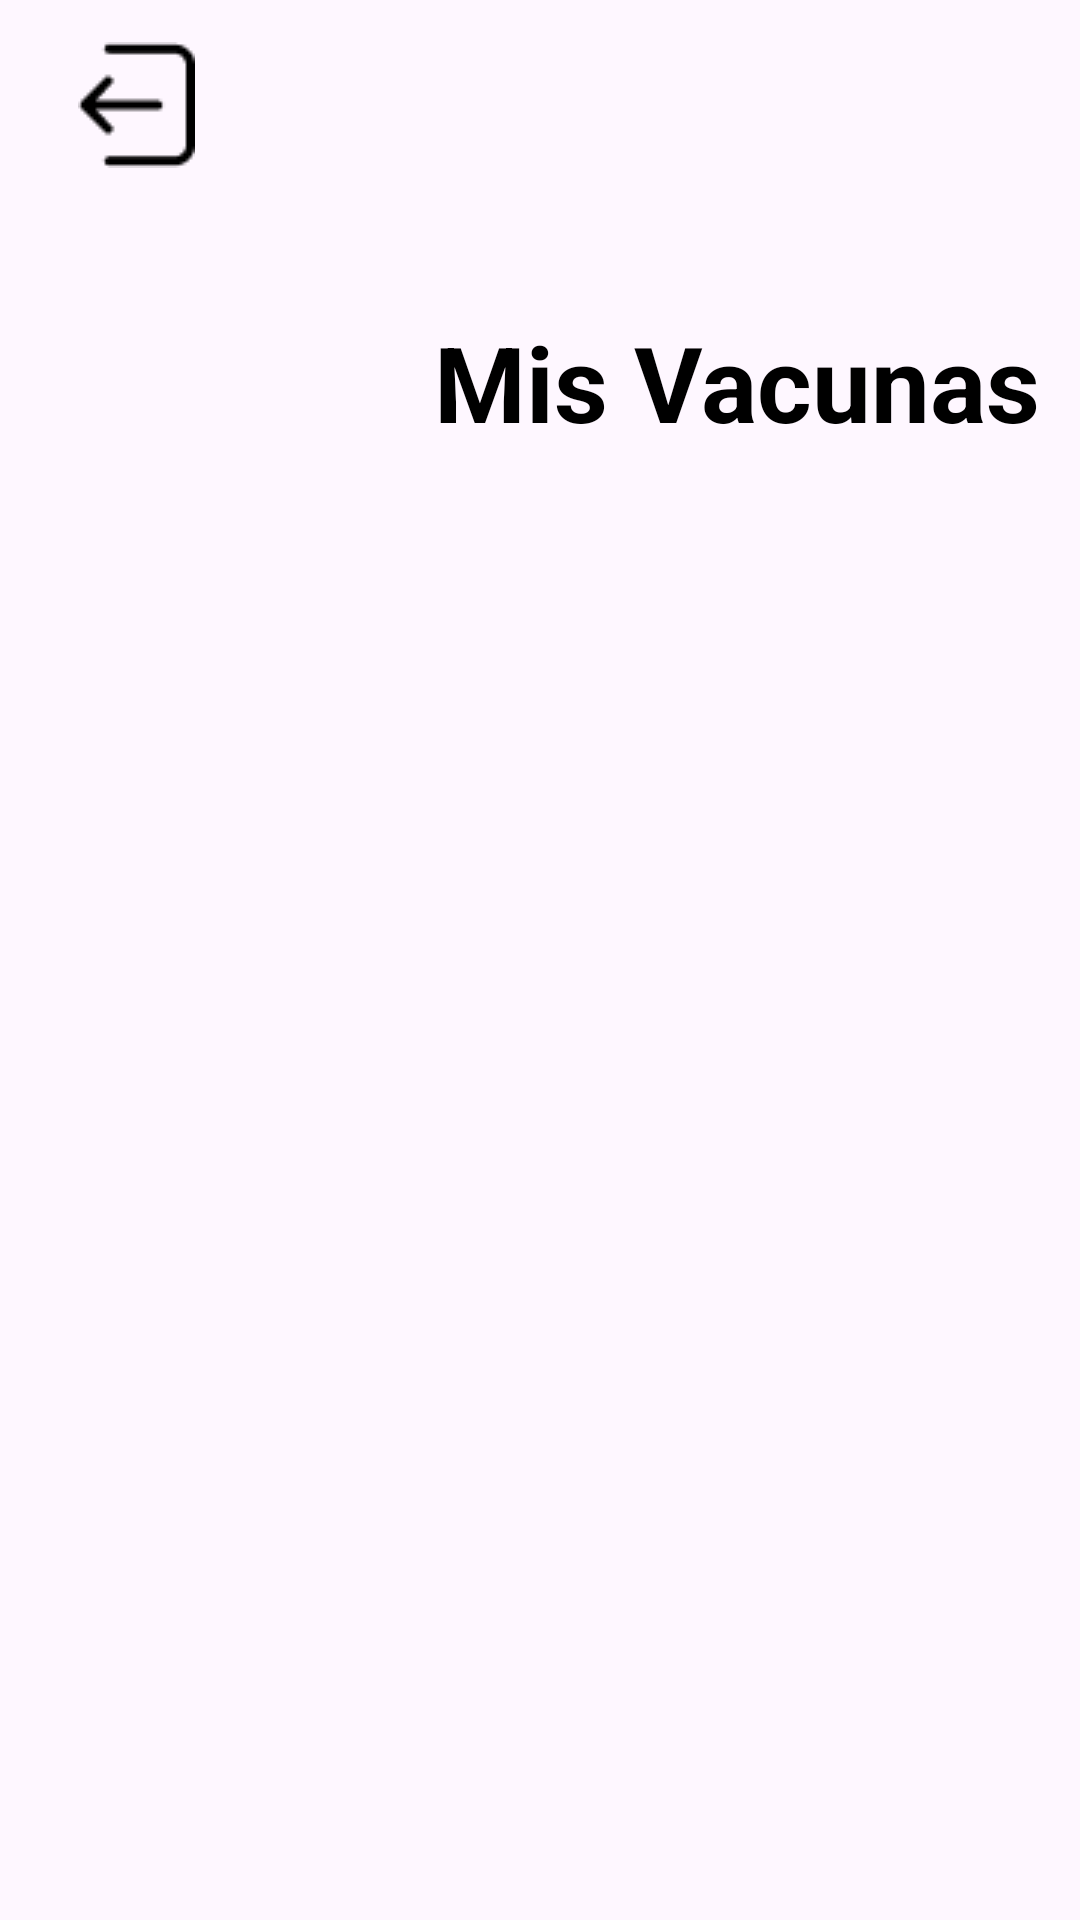

Locate icon controls on the screen. Image size 1080px×1920px, boxes as (x1, y1, x2, y2).
btnvolver: (78, 42, 195, 168)
